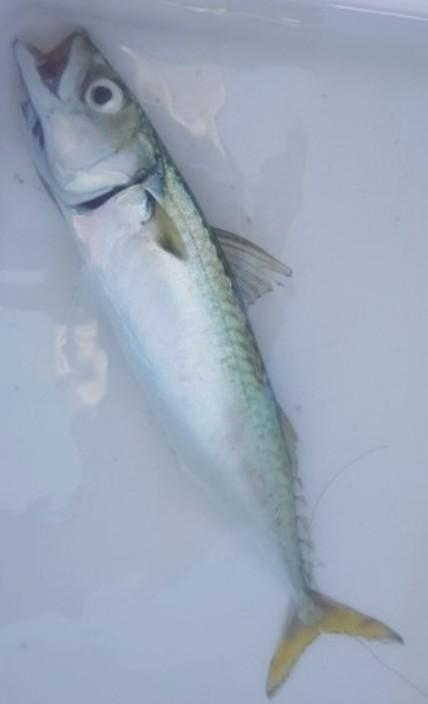fish: (14, 31, 400, 695)
